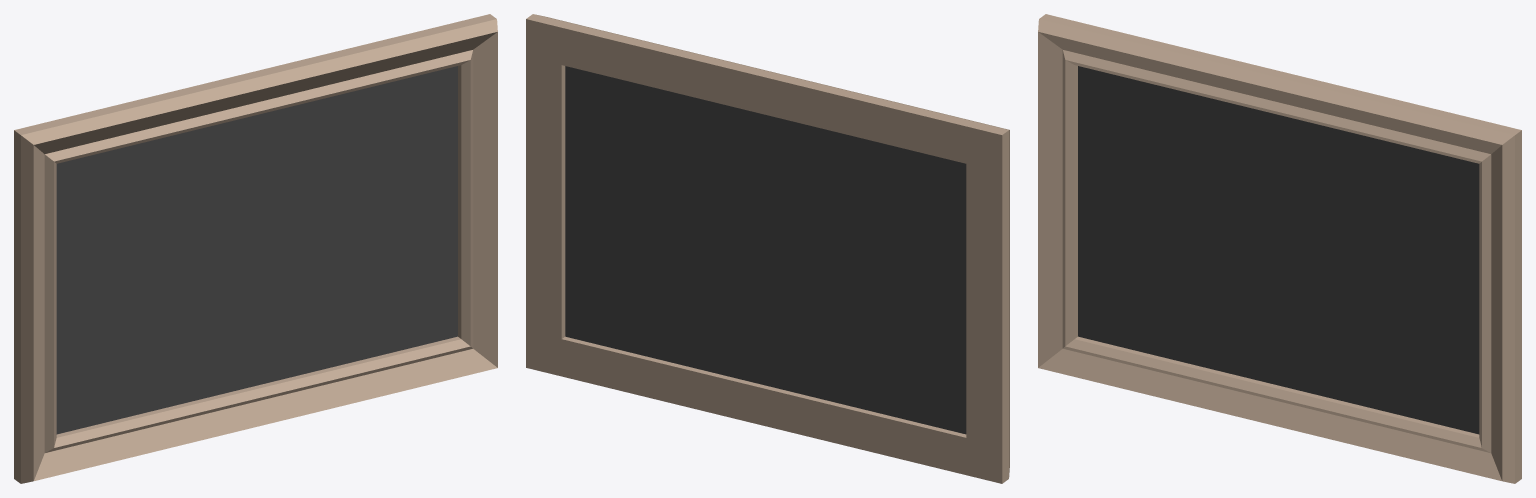
File: Prop_Misc_Picture_Landscape.glb
3 views of the same model, side by side, from view 1: azimuth 30°, elevation 25°; view 2: azimuth 150°, elevation 25°; view 3: azimuth 330°, elevation 25° (orthographic).
Parts seen in each view (by area): view 1: Prop_Misc_Picture_Landscape; view 2: Prop_Misc_Picture_Landscape; view 3: Prop_Misc_Picture_Landscape.
Boxes of the visible parts, x1,y1,x2,y2 form: Prop_Misc_Picture_Landscape: (14, 14, 497, 483); Prop_Misc_Picture_Landscape: (526, 14, 1009, 483); Prop_Misc_Picture_Landscape: (1038, 14, 1521, 483).
Size of the model in its own units: 1 by 0.7 by 0.05.
